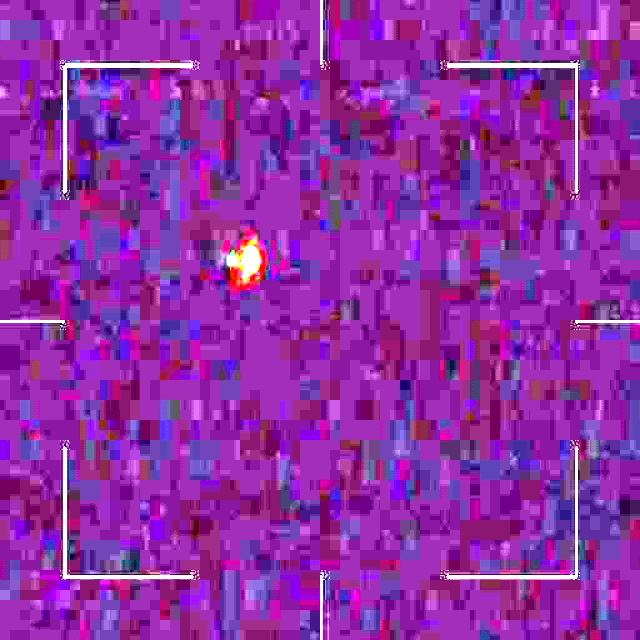bird: (226, 241, 260, 292)
